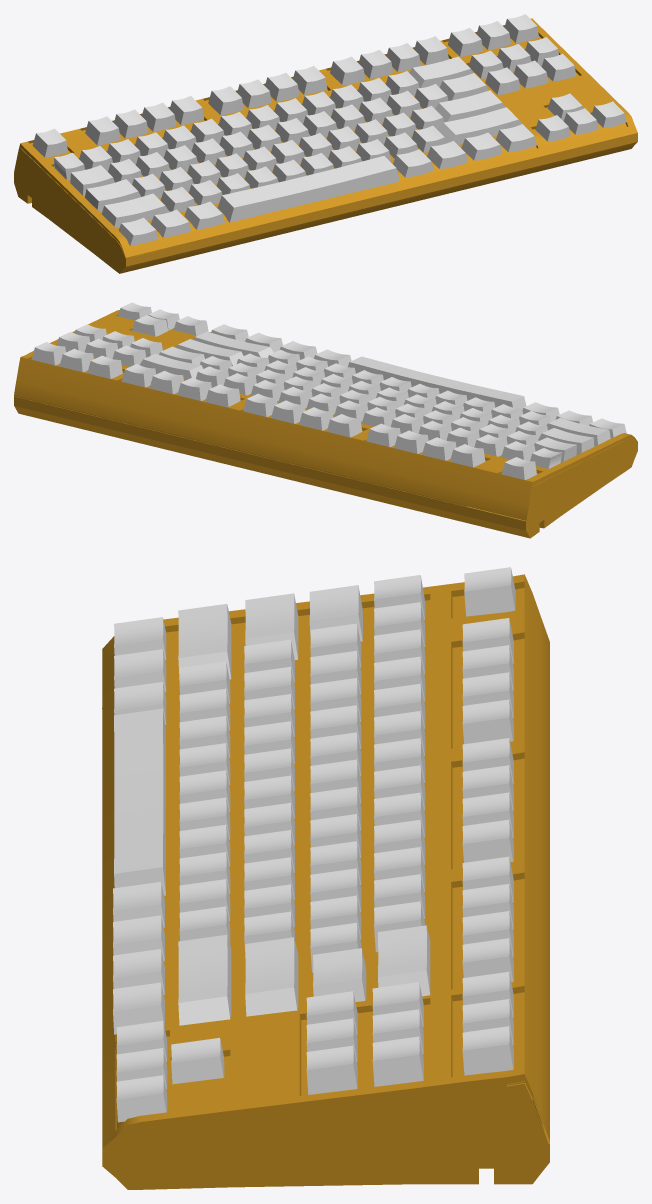
Rendered from KeyBoard (1).fbx.
3 views of the same model, one above another, from view 1: azimuth 30°, elevation 25°; view 2: azimuth 150°, elevation 25°; view 3: azimuth 270°, elevation 25° (orthographic). The views are drawn at different scales.
Visible parts, largest first — view 1: Cube, Cube.026, Cube.020, Cube.002, Cube.021, Cube.023, Cube.024, Cube.022, Cube.085, Cube.025, Cube.086, Cube.018 (+76 smaller); view 2: Cube, Cube.026, Cube.020, Cube.023, Cube.002, Cube.021, Cube.024, Cube.011, Cube.013, Cube.010, Cube.012, Cube.019 (+51 smaller); view 3: Cube, Cube.026, Cube.020, Cube.021, Cube.002, Cube.023, Cube.024, Cube.022, Cube.080, Cube.019, Cube.078, Cube.082 (+76 smaller).
Part boxes in pixels (bbox=[...]): Cube: bbox=[14, 18, 637, 273]; Cube.026: bbox=[217, 156, 399, 222]; Cube.020: bbox=[438, 107, 524, 144]; Cube.002: bbox=[102, 193, 169, 228]; Cube.021: bbox=[435, 90, 505, 122]; Cube.023: bbox=[409, 56, 472, 87]; Cube.024: bbox=[85, 179, 140, 211]; Cube.022: bbox=[439, 73, 488, 100]; Cube.085: bbox=[427, 141, 468, 168]; Cube.025: bbox=[70, 165, 114, 195]; Cube.086: bbox=[461, 132, 502, 160]; Cube.018: bbox=[393, 149, 433, 177]; Cube: bbox=[14, 310, 637, 538]; Cube.026: bbox=[348, 356, 526, 409]; Cube.020: bbox=[192, 331, 273, 357]; Cube.023: bbox=[140, 353, 202, 380]; Cube.002: bbox=[546, 418, 610, 446]; Cube.021: bbox=[176, 339, 243, 366]; Cube.024: bbox=[538, 428, 594, 454]; Cube.011: bbox=[327, 414, 362, 437]; Cube.013: bbox=[87, 355, 122, 378]; Cube.010: bbox=[450, 444, 485, 467]; Cube.012: bbox=[205, 384, 240, 407]; Cube.019: bbox=[501, 457, 536, 479]; Cube: bbox=[102, 574, 549, 1189]; Cube.026: bbox=[114, 708, 165, 895]; Cube.020: bbox=[178, 934, 231, 1025]; Cube.021: bbox=[245, 937, 298, 1016]; Cube.002: bbox=[178, 604, 231, 682]; Cube.023: bbox=[378, 925, 430, 996]; Cube.024: bbox=[245, 593, 298, 659]; Cube.022: bbox=[313, 948, 366, 1001]; Cube.080: bbox=[372, 1036, 423, 1086]; Cube.019: bbox=[464, 567, 515, 616]; Cube.078: bbox=[462, 1026, 513, 1075]; Cube.082: bbox=[306, 1045, 357, 1094].
Size of what is drawn, in the model's own units: 37.03 by 4.67 by 14.01.
